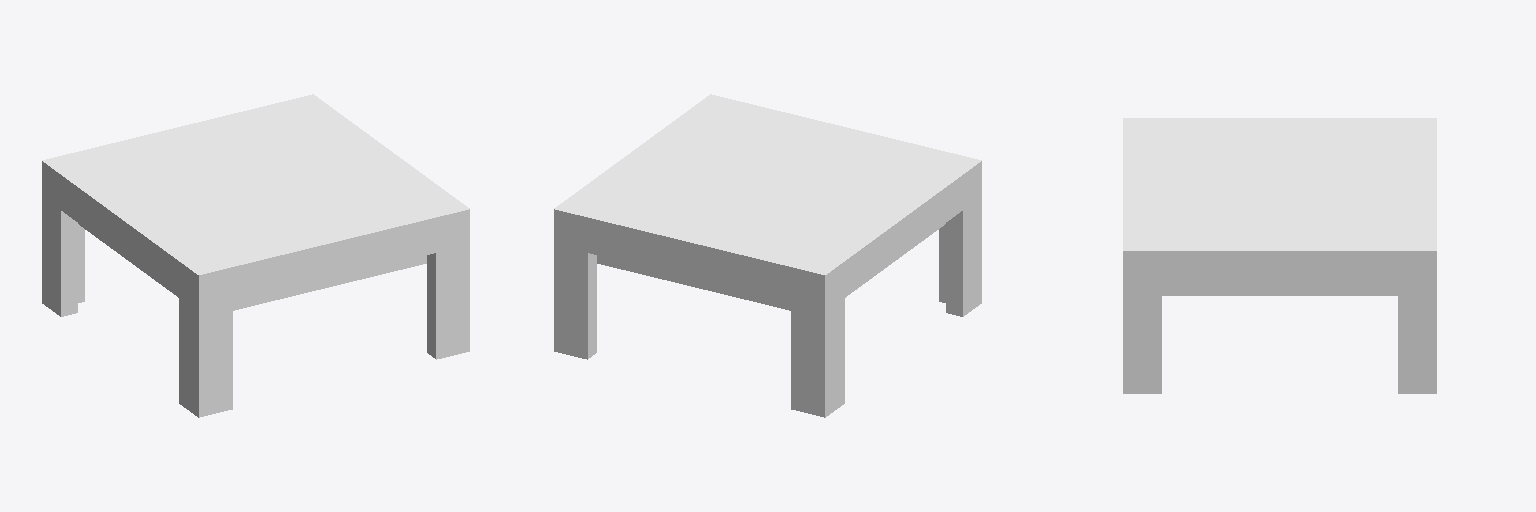
The model's file is stool.obj.
3 views of the same model, side by side, from view 1: azimuth 30°, elevation 25°; view 2: azimuth 150°, elevation 25°; view 3: azimuth 270°, elevation 25° (orthographic).
Parts seen in each view (by area): view 1: object 1; view 2: object 1; view 3: object 1.
Part boxes in pixels (bbox=[...]): object 1: bbox=[42, 94, 469, 417]; object 1: bbox=[554, 94, 981, 417]; object 1: bbox=[1123, 118, 1436, 393].
Bounding box in the file's own units: 1.6 × 0.8 × 1.6.